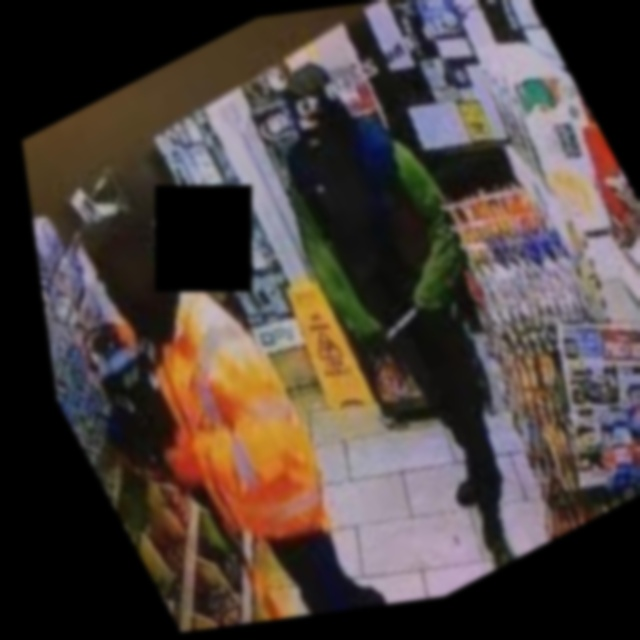gun: (367, 289, 441, 356)
